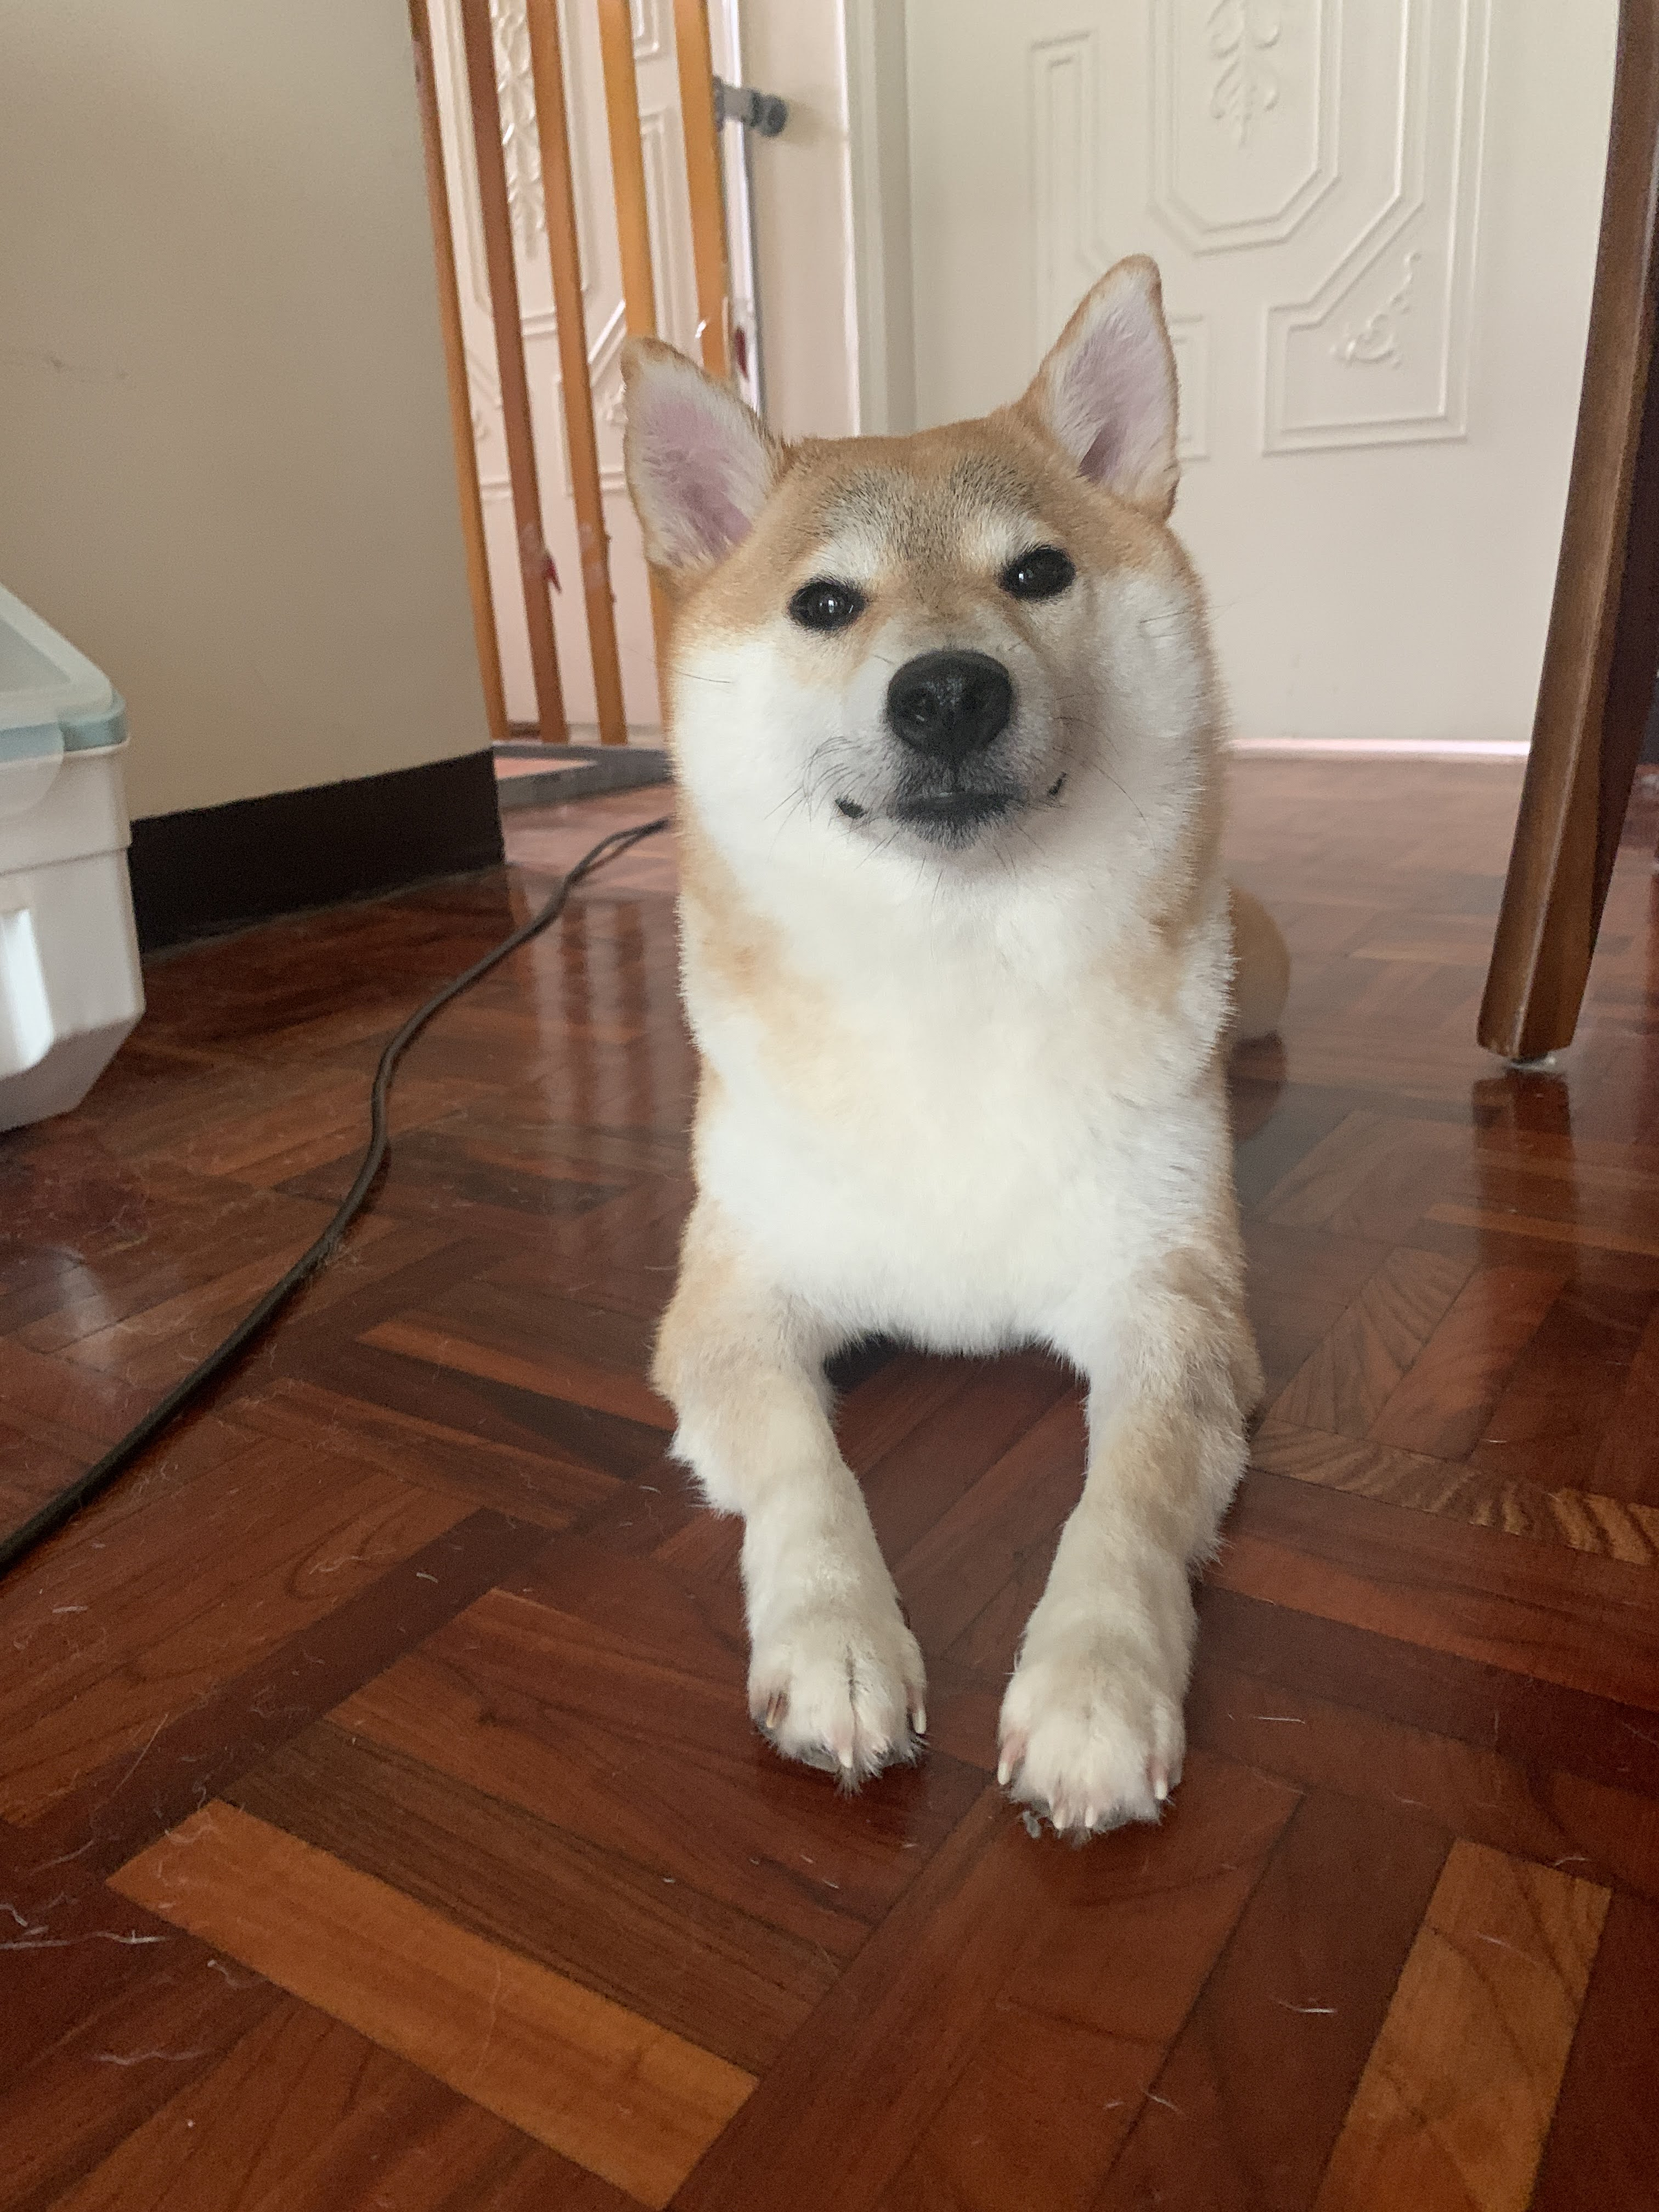Get down: (589, 286, 1345, 1874)
